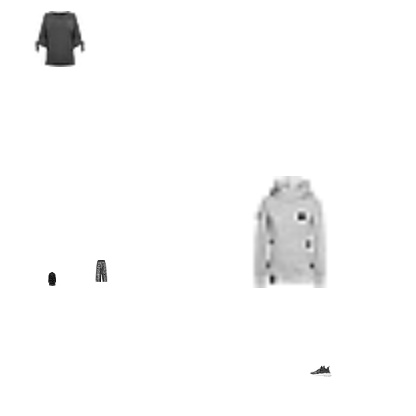Coat: (45, 272, 59, 286)
Pullover: (234, 176, 346, 288)
Shirt: (31, 11, 87, 67)
Sneaker: (310, 360, 332, 382)
Trouser: (90, 260, 112, 282)
